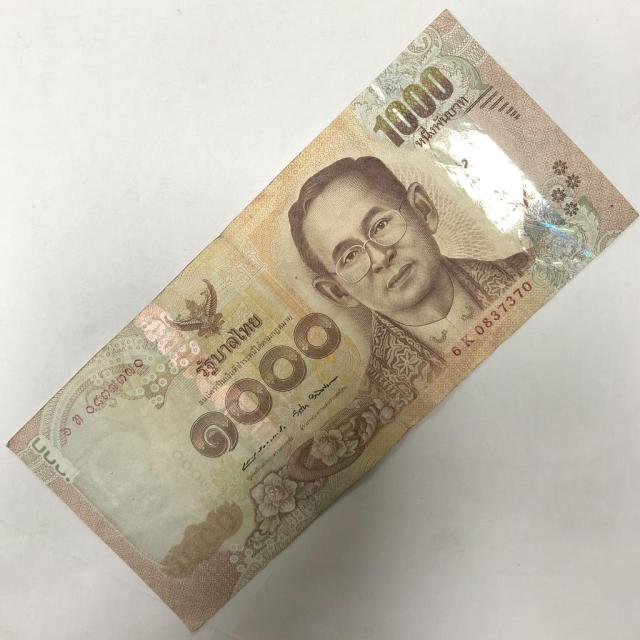THAI1000: (8, 11, 638, 630)
